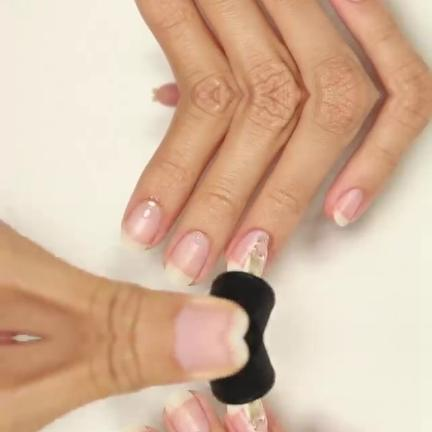Nail: (165, 230, 210, 285), (175, 303, 249, 336), (175, 338, 249, 371), (120, 198, 163, 251), (165, 389, 210, 432), (227, 229, 269, 271), (333, 188, 365, 225), (227, 403, 256, 432), (121, 423, 151, 432)
